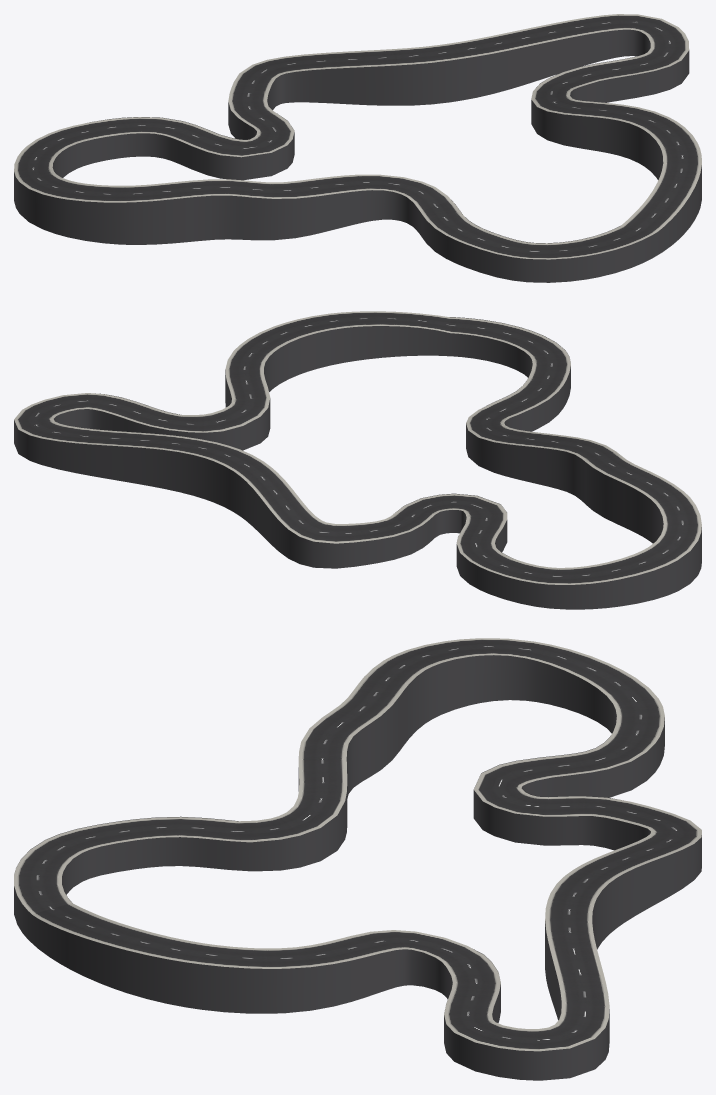
The model's file is Road03.fbx.
3 views of the same model, one above another, from view 1: azimuth 30°, elevation 25°; view 2: azimuth 150°, elevation 25°; view 3: azimuth 270°, elevation 25° (orthographic). The views are drawn at different scales.
Visible parts, largest first — view 1: Road03_Bottom (×2), Road03, Road03_Flat; view 2: Road03_Bottom (×2), Road03, Road03_Flat; view 3: Road03_Bottom (×2), Road03, Road03_Flat.
Boxes of the visible parts, left/top/right/bottom form: Road03_Bottom (×2): left=14, top=29, right=701, bottom=282; Road03: left=14, top=14, right=701, bottom=233; Road03_Flat: left=132, top=57, right=662, bottom=259; Road03_Bottom (×2): left=14, top=317, right=701, bottom=609; Road03: left=14, top=311, right=701, bottom=584; Road03_Flat: left=106, top=317, right=570, bottom=561; Road03_Bottom (×2): left=14, top=655, right=701, bottom=1080; Road03: left=32, top=638, right=701, bottom=1051; Road03_Flat: left=14, top=748, right=645, bottom=1019.
Size of what is drawn, in the model's own units: 16070 by 1030 by 11651.
